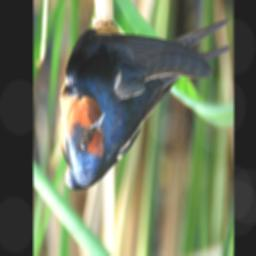Swallow: (57, 15, 231, 195)
